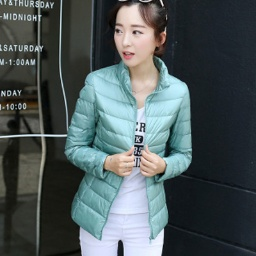face: (107, 3, 177, 73)
